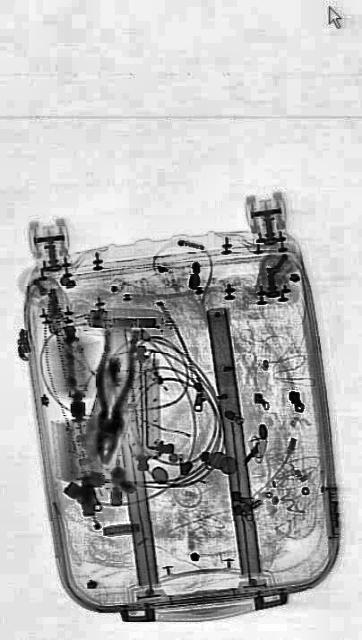Pliers: (83, 317, 139, 471)
